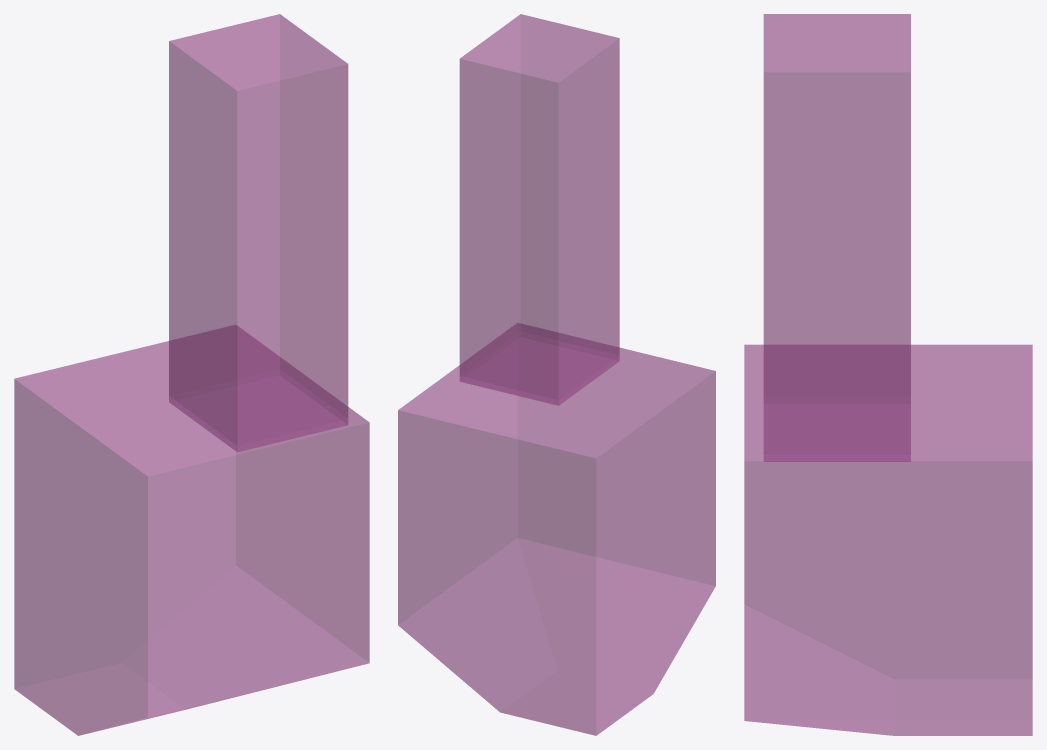
File: SM_Bld_Railing_Pillar_Corner_Inner_01_Collision.fbx
The picture shows the model from 3 angles, left to right: view 1: azimuth 30°, elevation 25°; view 2: azimuth 150°, elevation 25°; view 3: azimuth 270°, elevation 25°; orthographic projection. The views are drawn at different scales.
Parts seen in each view (by area): view 1: SM_Bld_Railing_Pillar_Corner_Inner_01_Collision; view 2: SM_Bld_Railing_Pillar_Corner_Inner_01_Collision; view 3: SM_Bld_Railing_Pillar_Corner_Inner_01_Collision.
Boxes of the visible parts, x1,y1,x2,y2 form: SM_Bld_Railing_Pillar_Corner_Inner_01_Collision: (14, 14, 369, 735); SM_Bld_Railing_Pillar_Corner_Inner_01_Collision: (398, 14, 715, 735); SM_Bld_Railing_Pillar_Corner_Inner_01_Collision: (744, 14, 1032, 735).
Bounding box in the file's own units: 56.21 × 161 × 58.72.
